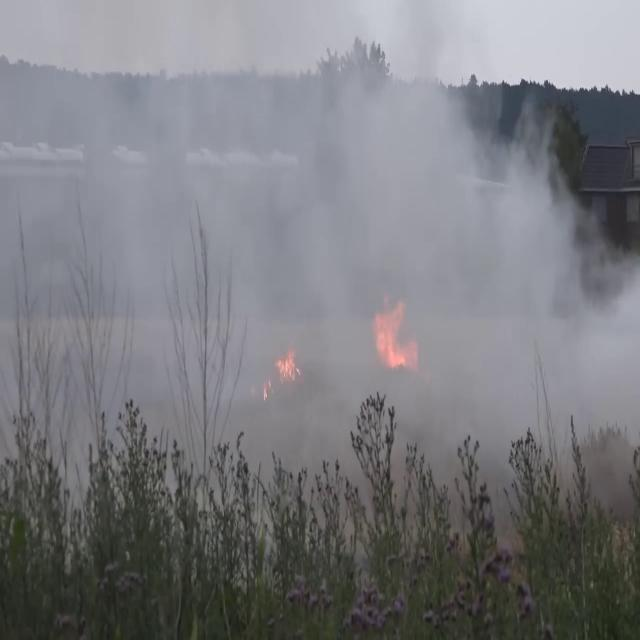Fire: (371, 290, 415, 372), (274, 339, 300, 387)
Smoke: (1, 1, 638, 537)
